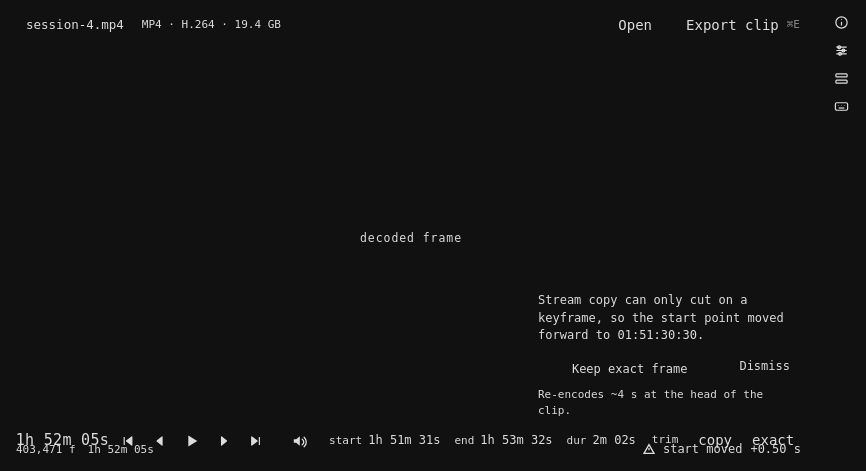
Test: App › "Keep exact frame" restores the pre-enforcement start point and switches to exact mode
Click the button "Keep exact frame": (630, 366) [538,354,721,378]
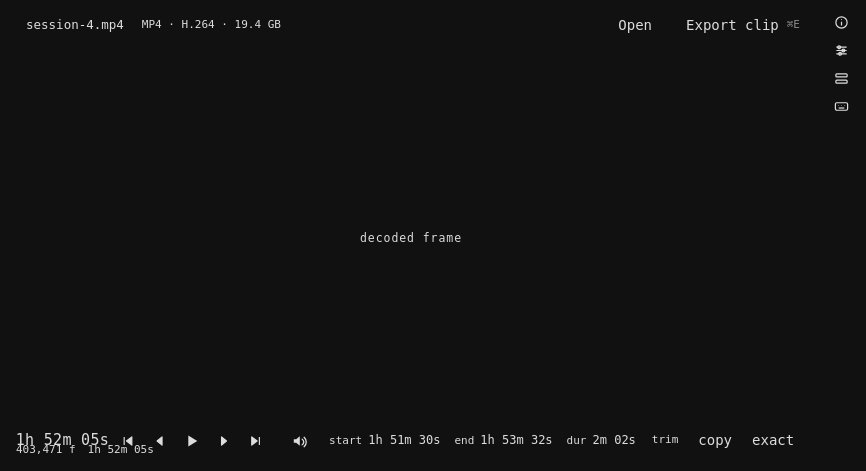
Check: the text "1h 51m 30s" is shown, box [368,431,440,449]
